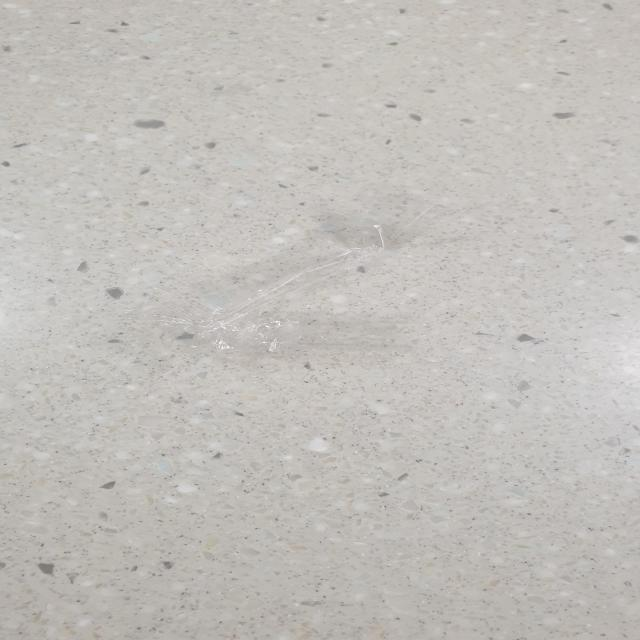litter: (122, 185, 441, 356)
